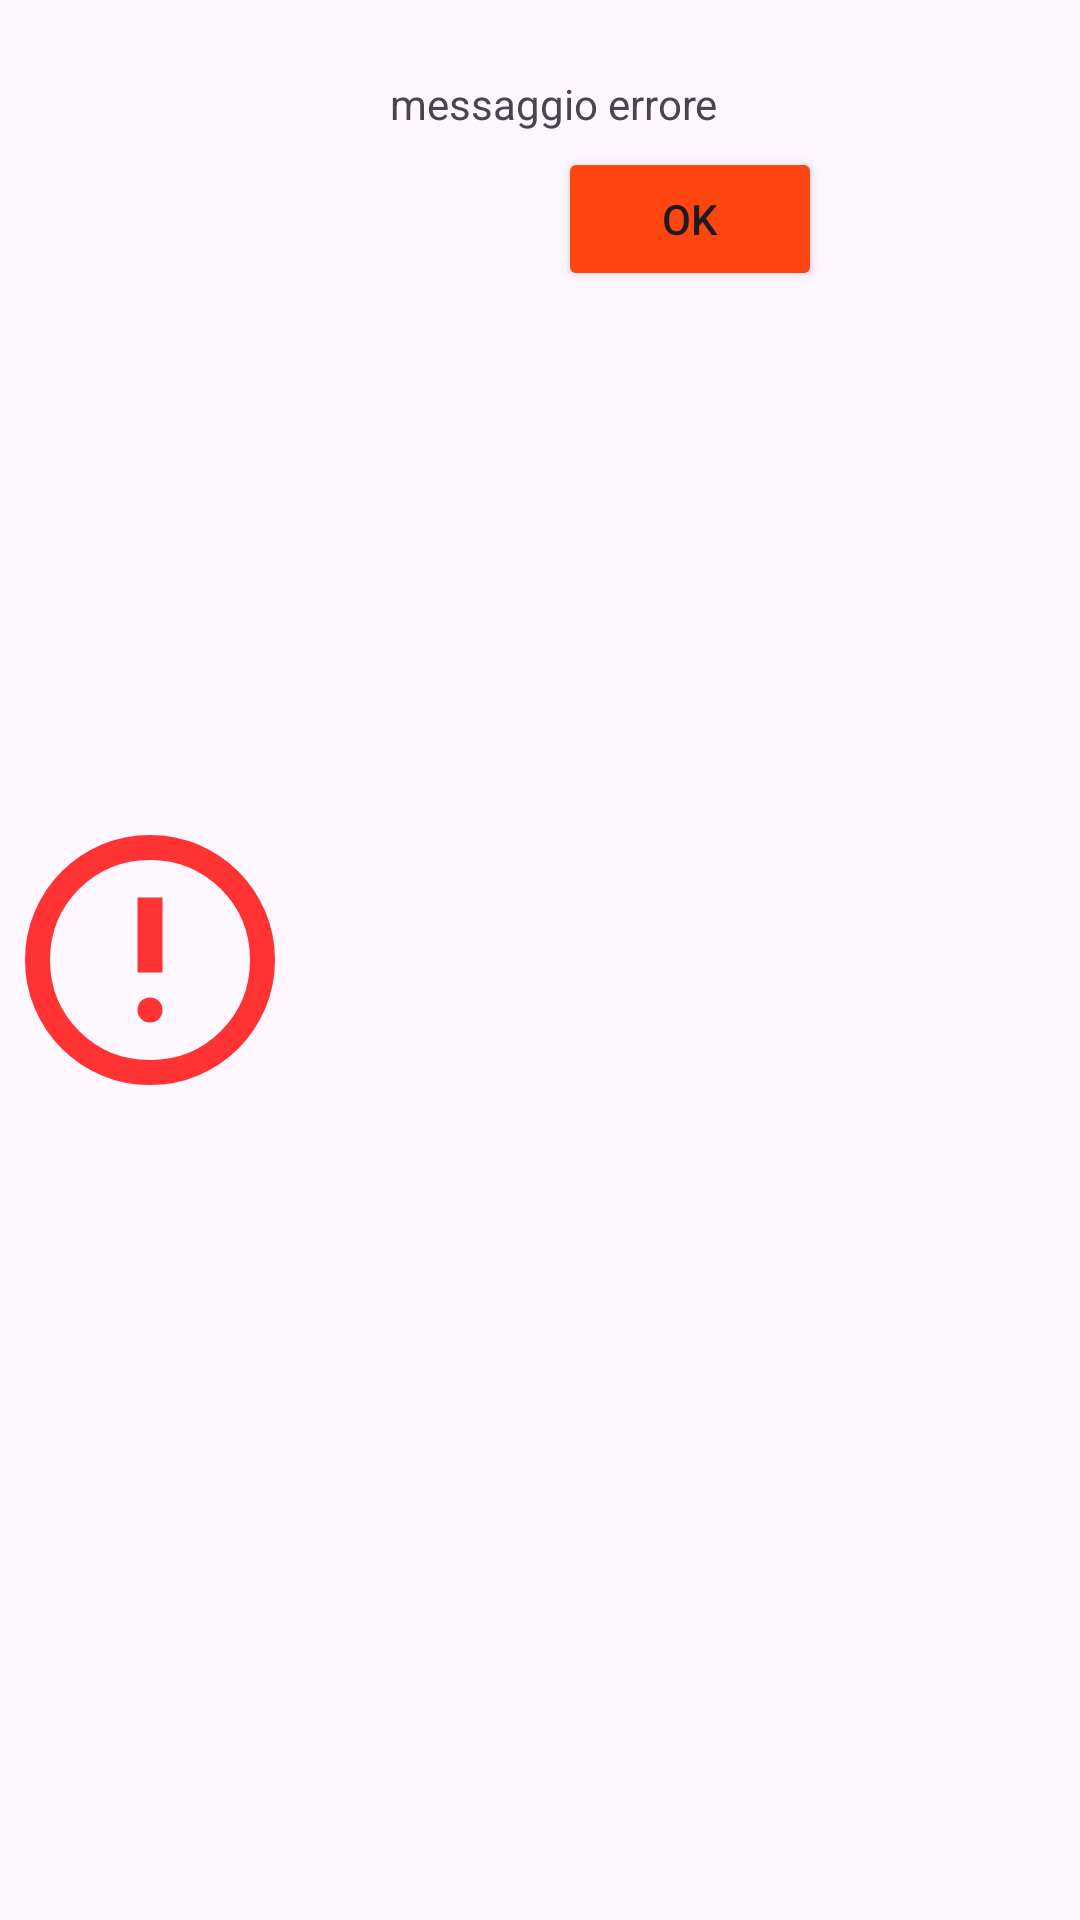

Point at icon controls on the screen. Image size 1080 × 1920, points as point (x, y).
error: point (150, 960)
